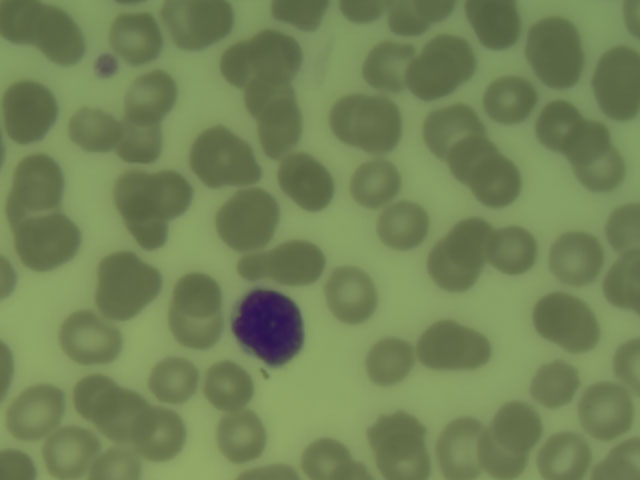Platelets: (94, 56, 121, 78)
RBC: (530, 19, 588, 91), (533, 294, 600, 353), (56, 313, 122, 367), (426, 319, 496, 369), (213, 191, 274, 247), (165, 299, 225, 354), (593, 46, 640, 116), (579, 380, 634, 439), (164, 1, 233, 47), (424, 238, 480, 294), (89, 273, 151, 323), (8, 186, 65, 240), (550, 231, 601, 291), (211, 414, 276, 461), (15, 223, 81, 268), (281, 156, 335, 211), (440, 417, 486, 480), (481, 75, 540, 124), (328, 268, 382, 321), (206, 359, 259, 410), (349, 156, 403, 206), (46, 429, 100, 479), (171, 270, 223, 321), (538, 429, 589, 480), (368, 333, 417, 386), (254, 29, 308, 77), (360, 97, 405, 154), (479, 427, 527, 480), (373, 410, 428, 456), (276, 240, 327, 289), (125, 203, 173, 255), (365, 40, 413, 92), (420, 109, 478, 152), (245, 73, 299, 119), (580, 148, 630, 197), (9, 385, 61, 432), (262, 102, 305, 158), (124, 72, 178, 116), (97, 392, 149, 437), (139, 407, 184, 459), (425, 36, 479, 79), (477, 159, 525, 207), (530, 360, 576, 410), (489, 229, 540, 274), (70, 108, 119, 154), (7, 85, 54, 132), (118, 115, 166, 161), (192, 126, 236, 176), (111, 16, 159, 60), (153, 170, 197, 218), (491, 402, 539, 446), (151, 358, 200, 399), (538, 101, 578, 151), (605, 254, 640, 311), (605, 200, 640, 256), (452, 221, 497, 264), (565, 124, 613, 164), (371, 450, 435, 480), (472, 2, 516, 45), (384, 205, 429, 247), (455, 137, 497, 182), (15, 156, 61, 197), (404, 60, 449, 101), (302, 440, 348, 480), (70, 377, 119, 414), (111, 168, 154, 210), (223, 143, 266, 185), (220, 43, 260, 86), (333, 95, 370, 141), (94, 446, 141, 480), (275, 1, 329, 30), (48, 25, 85, 63), (97, 253, 138, 287), (613, 339, 640, 389), (391, 1, 427, 37), (13, 7, 49, 42), (233, 255, 276, 280), (424, 1, 467, 24), (337, 1, 389, 20)
WBC: (233, 293, 308, 361)
